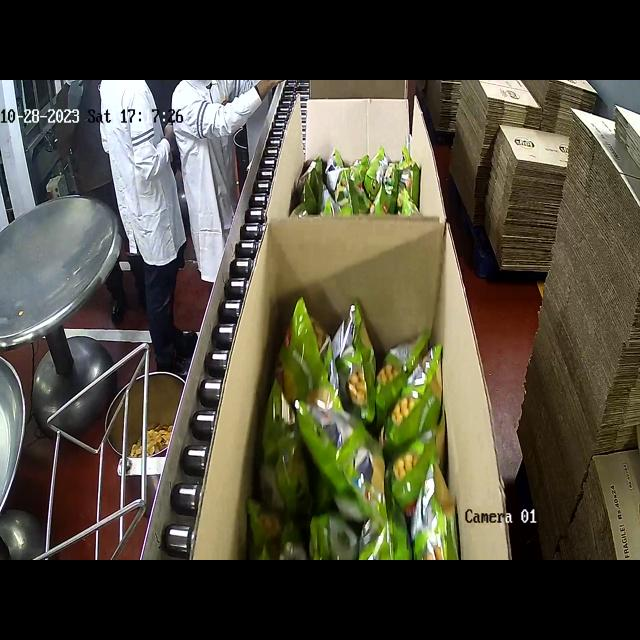yogurt: (245, 295, 458, 558), (289, 143, 421, 217)
